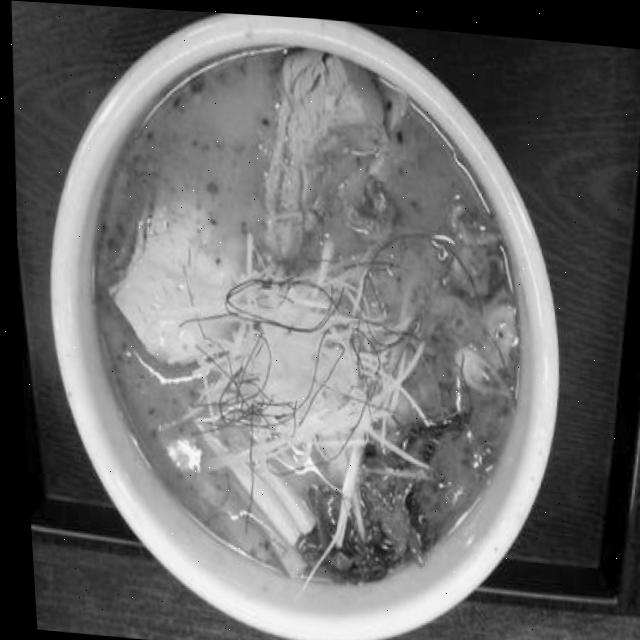面条主食: (17, 1, 578, 640)
